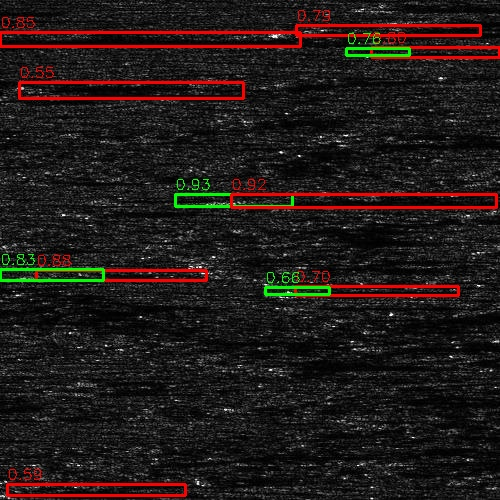rock: (306, 133, 411, 150), (62, 372, 145, 387), (241, 26, 356, 35), (8, 89, 101, 98), (338, 340, 411, 351), (2, 270, 43, 283), (0, 82, 70, 89), (348, 323, 401, 332), (355, 3, 438, 8), (348, 48, 401, 55), (299, 272, 310, 305), (359, 457, 422, 462), (392, 18, 455, 23), (71, 202, 82, 217), (484, 332, 500, 341), (289, 303, 330, 306), (257, 364, 298, 367), (250, 196, 261, 205), (483, 178, 494, 185)
shadow: (359, 133, 500, 150), (23, 270, 192, 283), (256, 196, 500, 205), (0, 35, 238, 44), (305, 272, 366, 305), (55, 89, 262, 98), (299, 26, 500, 35), (34, 82, 239, 89), (375, 340, 500, 351), (375, 323, 500, 332), (0, 76, 184, 81), (104, 372, 163, 387), (375, 48, 500, 55), (39, 489, 210, 494), (77, 202, 132, 217), (310, 303, 494, 306), (391, 457, 500, 462), (397, 3, 500, 8), (0, 16, 128, 19), (424, 18, 500, 23), (0, 5, 41, 14), (278, 364, 401, 367), (0, 284, 17, 287)
